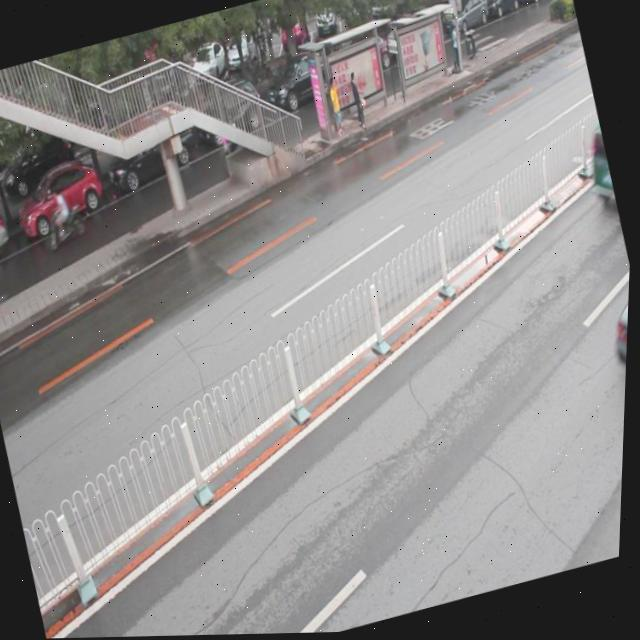car: (11, 156, 110, 238), (101, 119, 202, 195), (186, 82, 273, 157), (260, 52, 344, 124), (0, 197, 17, 269)
